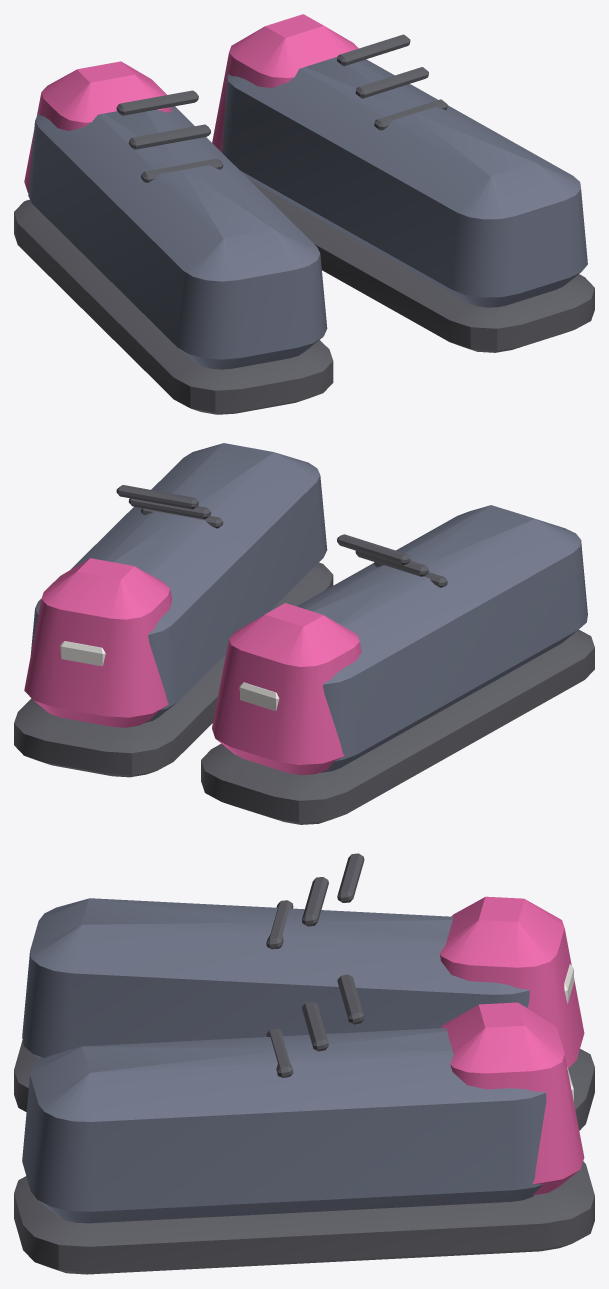
File: bowling-alley-and-pool-hall-bowling-shoes-838b23f8__33850.glb
The picture shows the model from 3 angles, top to bottom: view 1: azimuth 30°, elevation 25°; view 2: azimuth 150°, elevation 25°; view 3: azimuth 270°, elevation 25°; orthographic projection. The views are drawn at different scales.
Visible parts, largest first — view 1: bowling-shoes; view 2: bowling-shoes; view 3: bowling-shoes.
Part boxes in pixels (x1,y1,x2,y2): bowling-shoes: (14, 14, 594, 414); bowling-shoes: (14, 443, 594, 824); bowling-shoes: (14, 853, 594, 1274).
Size of the model in its own units: 0.2748 by 0.1303 by 0.2925.
